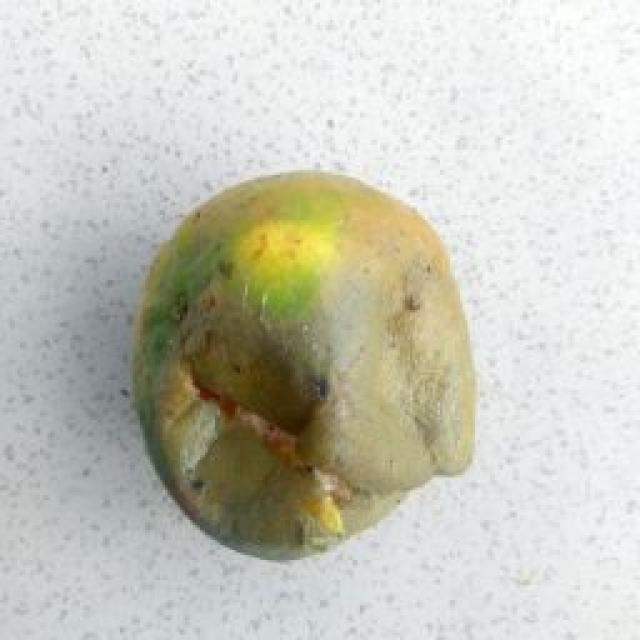Bad_Orange: (134, 171, 472, 558)
